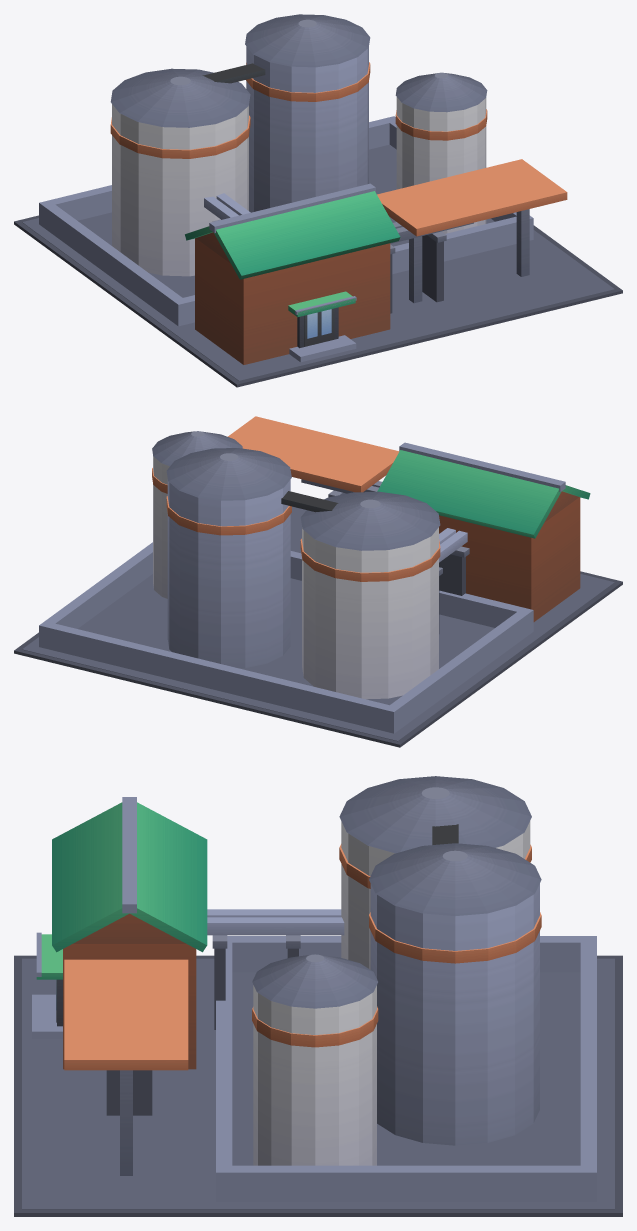
Rendered from ind_tank_depot_2x2.glb.
3 renders of one model, top to bottom at view 1: azimuth 30°, elevation 25°; view 2: azimuth 150°, elevation 25°; view 3: azimuth 270°, elevation 25°, orthographic. The views are drawn at different scales.
Visible parts, largest first — view 1: ind_tank_depot_2x2; view 2: ind_tank_depot_2x2; view 3: ind_tank_depot_2x2.
Part boxes in pixels (x1,y1,x2,y2): ind_tank_depot_2x2: (14,14,622,387); ind_tank_depot_2x2: (14,416,622,747); ind_tank_depot_2x2: (14,776,622,1216).
Size of the model in its own units: 3.74 by 1.75 by 3.74.
Materials: 1 (1 with a texture image).
